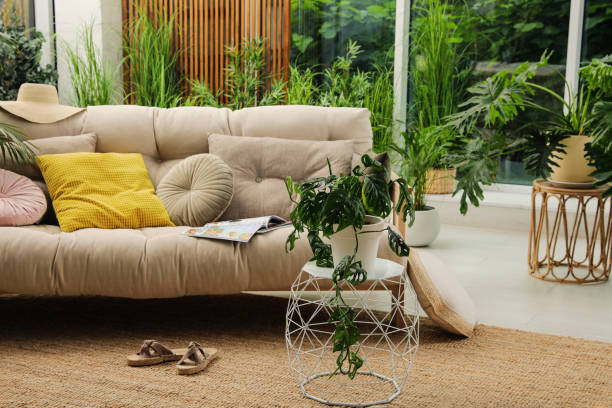side table: (282, 257, 420, 407), (528, 180, 612, 287)
small plant: (439, 55, 612, 196), (288, 154, 413, 282), (410, 7, 462, 194), (400, 123, 453, 248)
sofa: (0, 95, 410, 328)
